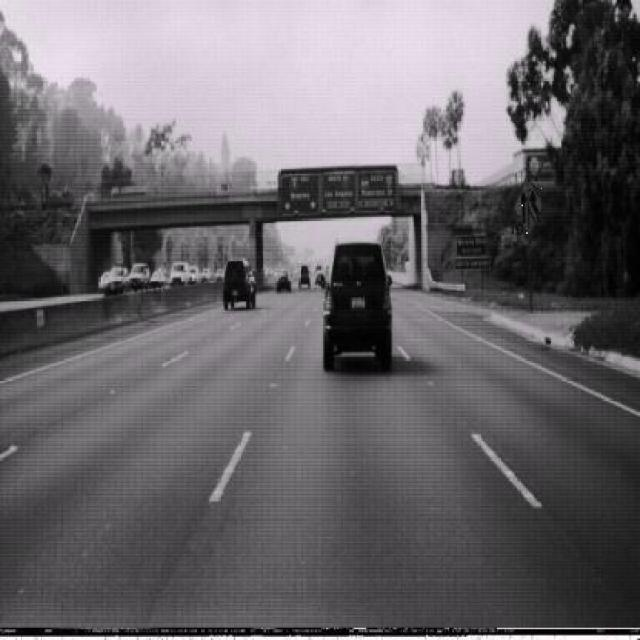addedLane: (512, 174, 543, 236)
